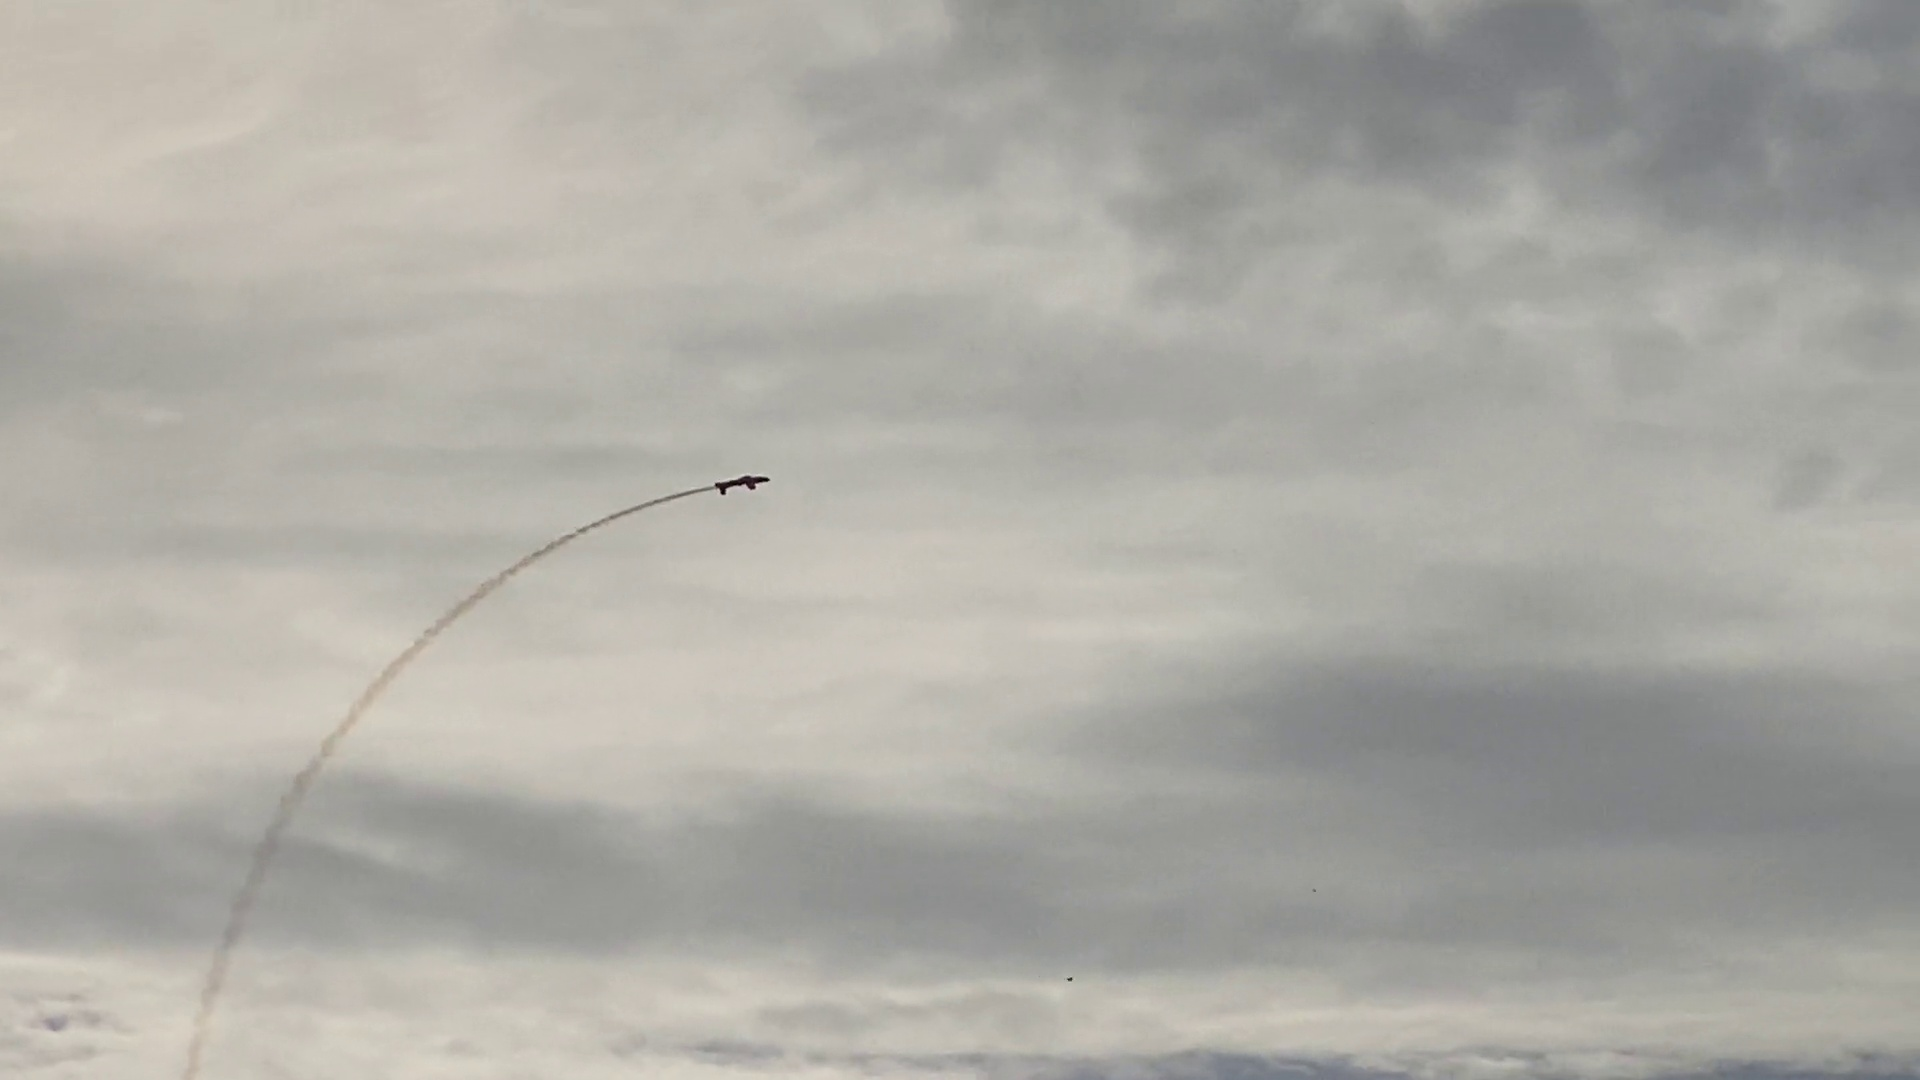plane: (715, 473, 770, 497)
